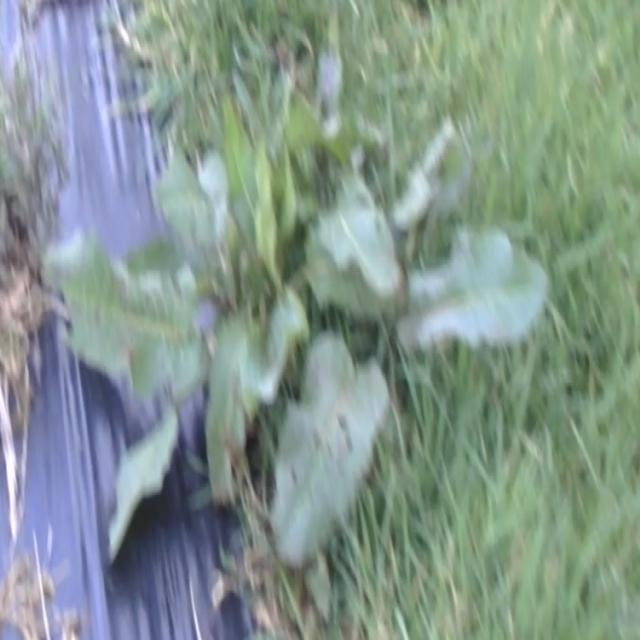organic waste: (48, 50, 510, 541)
